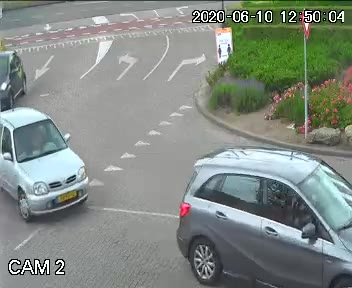car: (171, 139, 352, 288), (0, 106, 99, 228), (0, 45, 29, 119)
